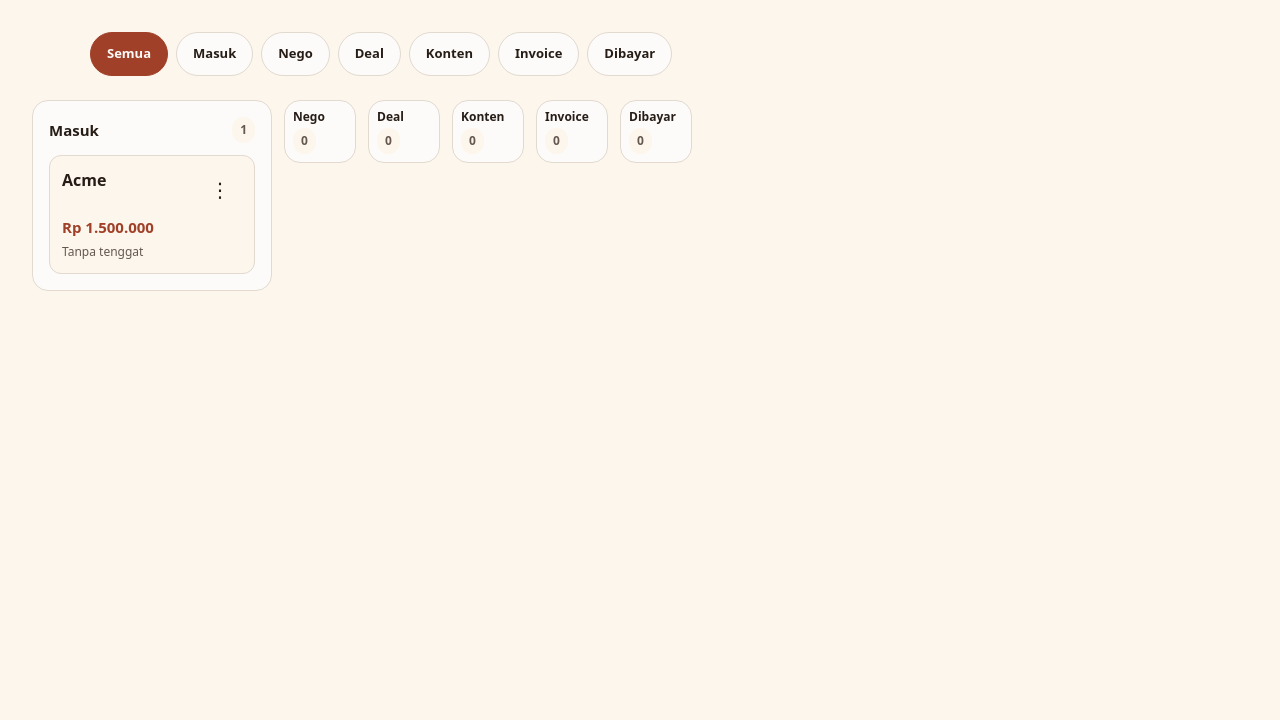
Scenario: DealClient stage movement (T-15) › rolls back to the prior stage and shows an error when the move request fails
This screenshot has width=1280, height=720.
Click the button named "Aksi lain untuk deal Acme": click(220, 190) [198,168,242,212]
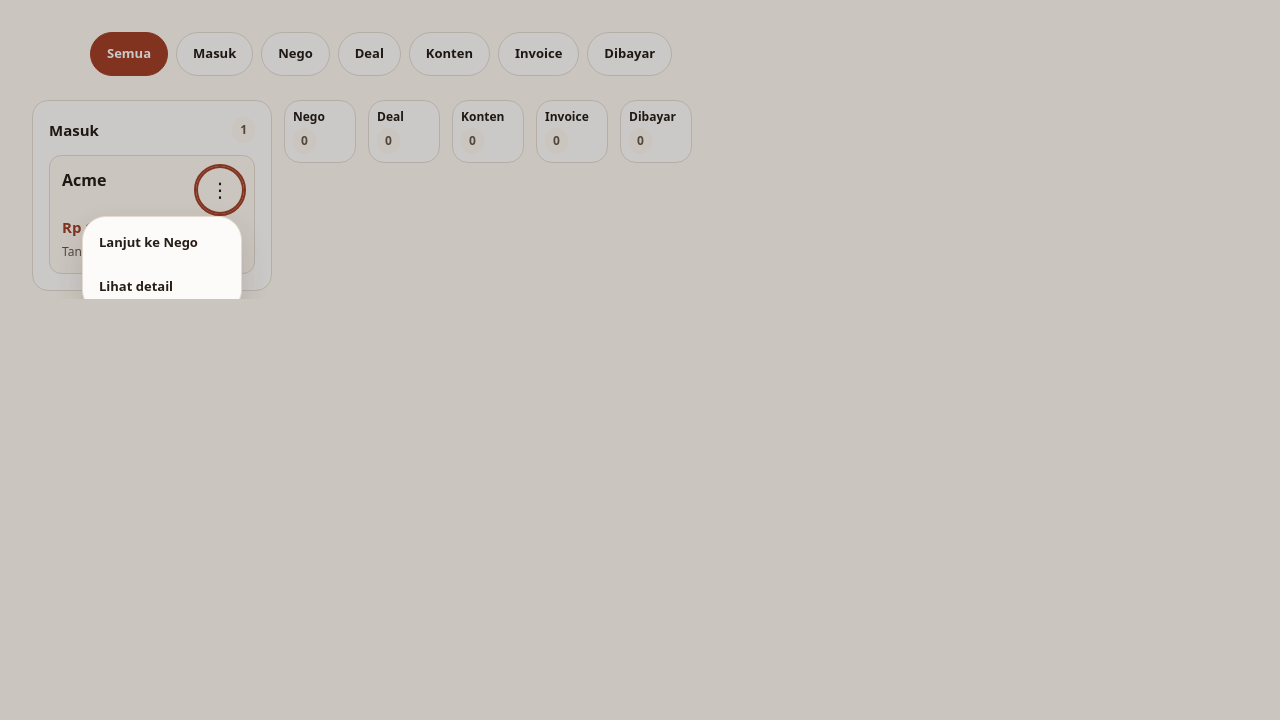
Click the menu item "Lanjut ke Nego": click(162, 243) [87,221,237,265]
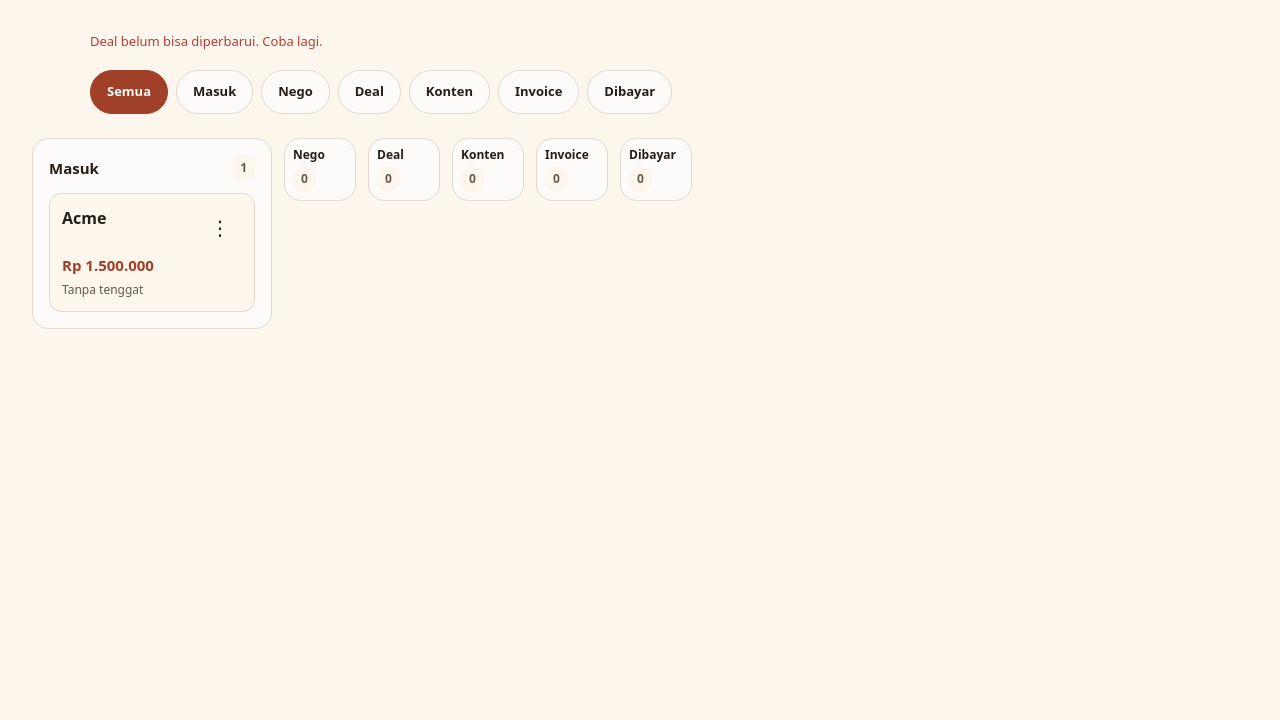
Expected: the element "Masuk" shows "Acme", [62,207,106,229]
Expected: the message reads "Deal belum bisa diperbarui. Coba lagi.", [90,32,322,50]
